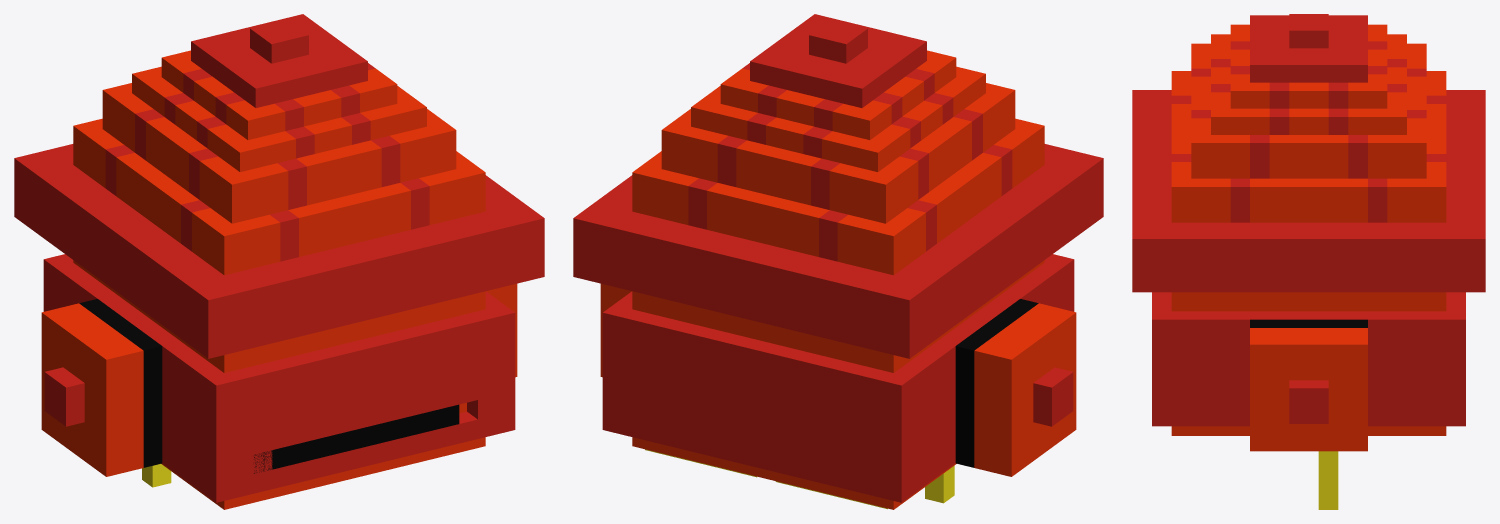
Rendered from firehydrant.glb.
3 renders of one model, left to right at view 1: azimuth 30°, elevation 25°; view 2: azimuth 150°, elevation 25°; view 3: azimuth 270°, elevation 25°, orthographic. The views are drawn at different scales.
Parts seen in each view (by area): view 1: base, mouth; view 2: base, glasses; view 3: base, glasses.
Part boxes in pixels (x1=…): base: x1=14, y1=14, x2=544, y2=509; mouth: x1=254, y1=404, x2=459, y2=473; base: x1=573, y1=14, x2=1103, y2=509; glasses: x1=645, y1=449, x2=954, y2=509; base: x1=1132, y1=14, x2=1485, y2=451; glasses: x1=1318, y1=451, x2=1338, y2=509.
Size of the model in its own units: 24 by 23 by 18.
7 materials, 7 textured.
